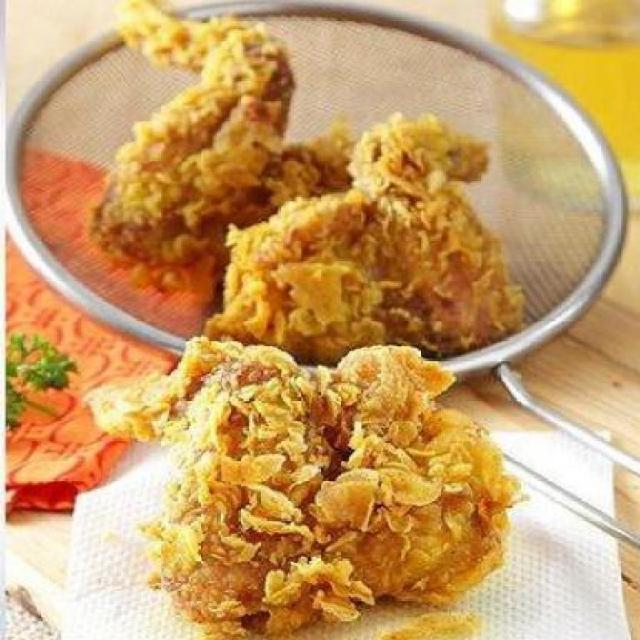Chicken -Fried Chicken-: (85, 343, 526, 639), (88, 3, 402, 257), (220, 115, 522, 338)
